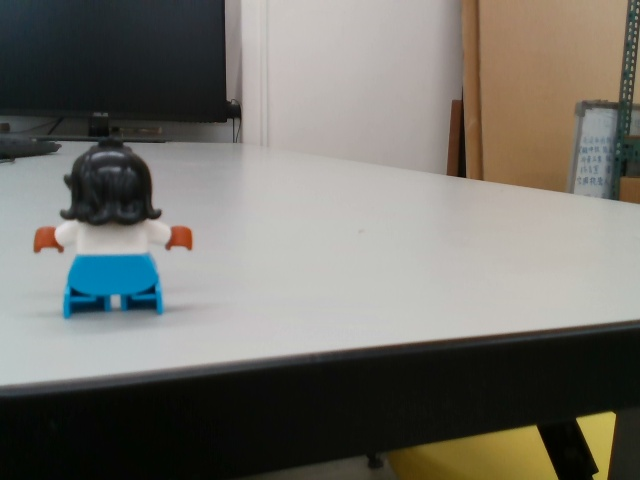people: (32, 135, 197, 319)
